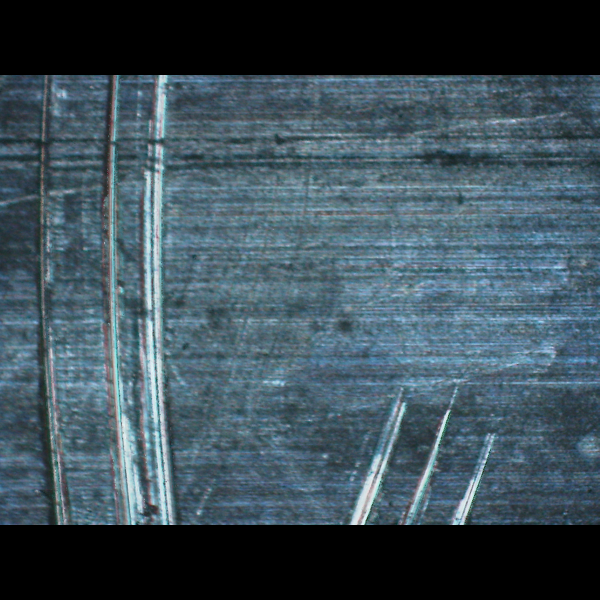d: (29, 75, 192, 522), (329, 372, 528, 524)
